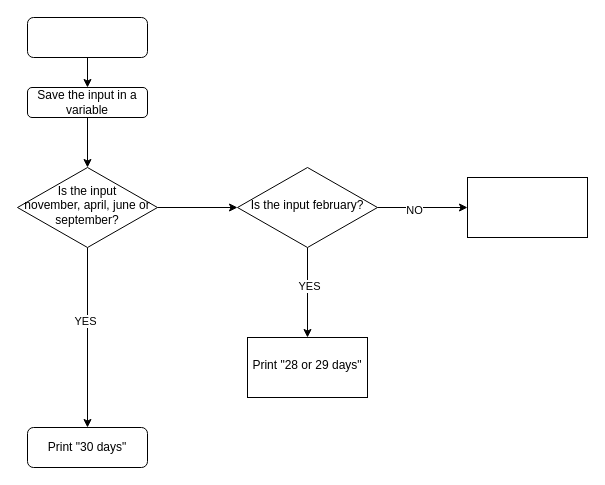
Image size: 605x485. Some labels were removed from this diagram. Each missing label, with the box of its shape:
Print "31 days": (466, 176, 588, 238)
Take user input: (26, 16, 148, 58)
